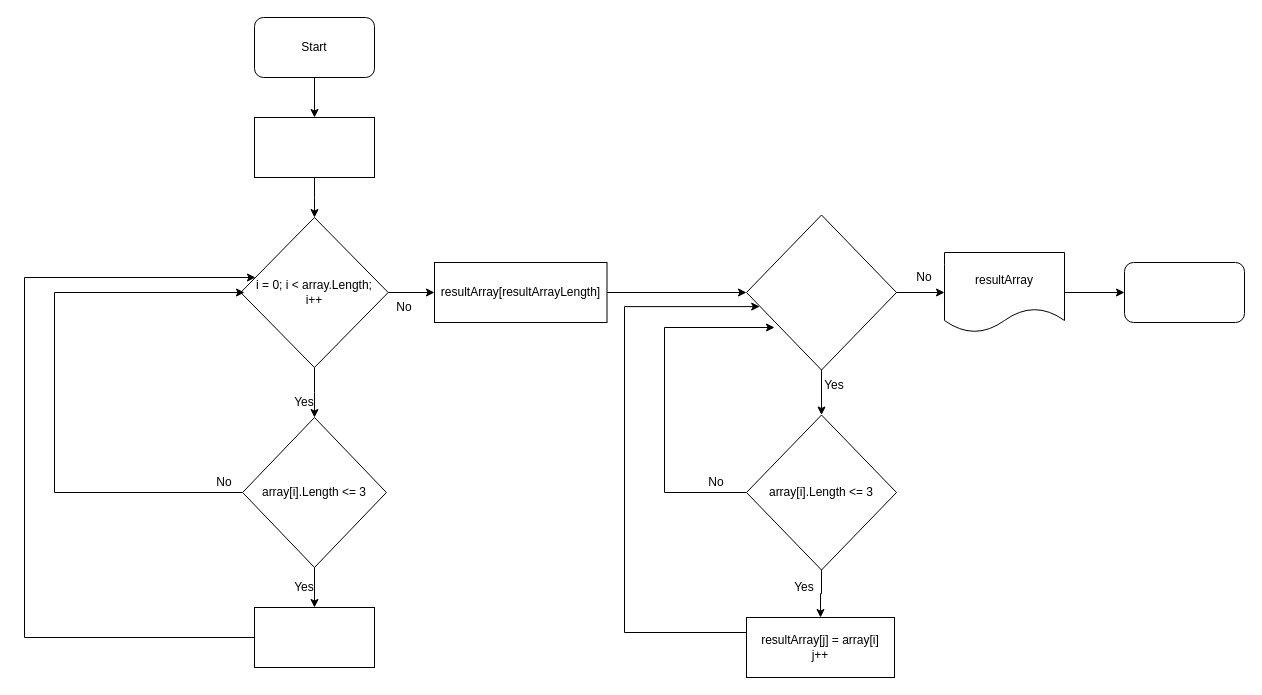
Some shapes in this 1262 by 695 pixel diagram are drawn without their labels. The shapes that lost their labels are listed below. From the top down, each one's centre as x and y in pixels, then its label:
At (x=314, y=147): "j = 0 resultArrayLenght = 0 array = {...}".
At (x=821, y=292): "i = 0; array.Length; i++".
At (x=1184, y=292): "End".
At (x=314, y=637): "resultArrayLength++".
